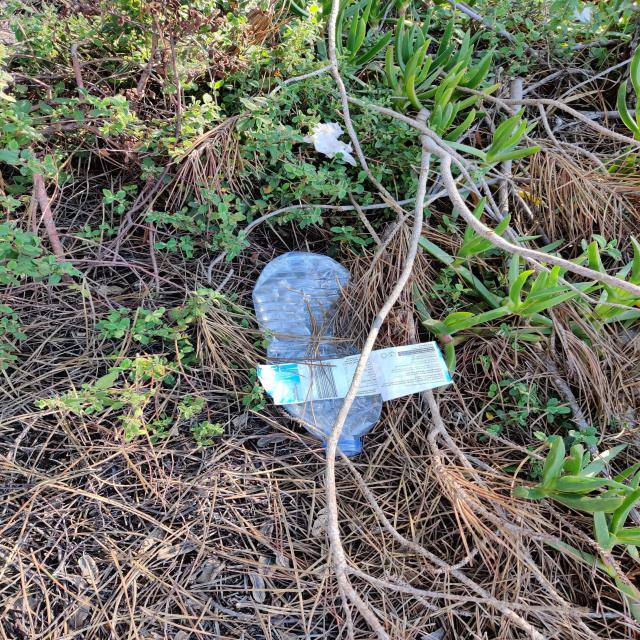litter: (247, 245, 393, 470)
